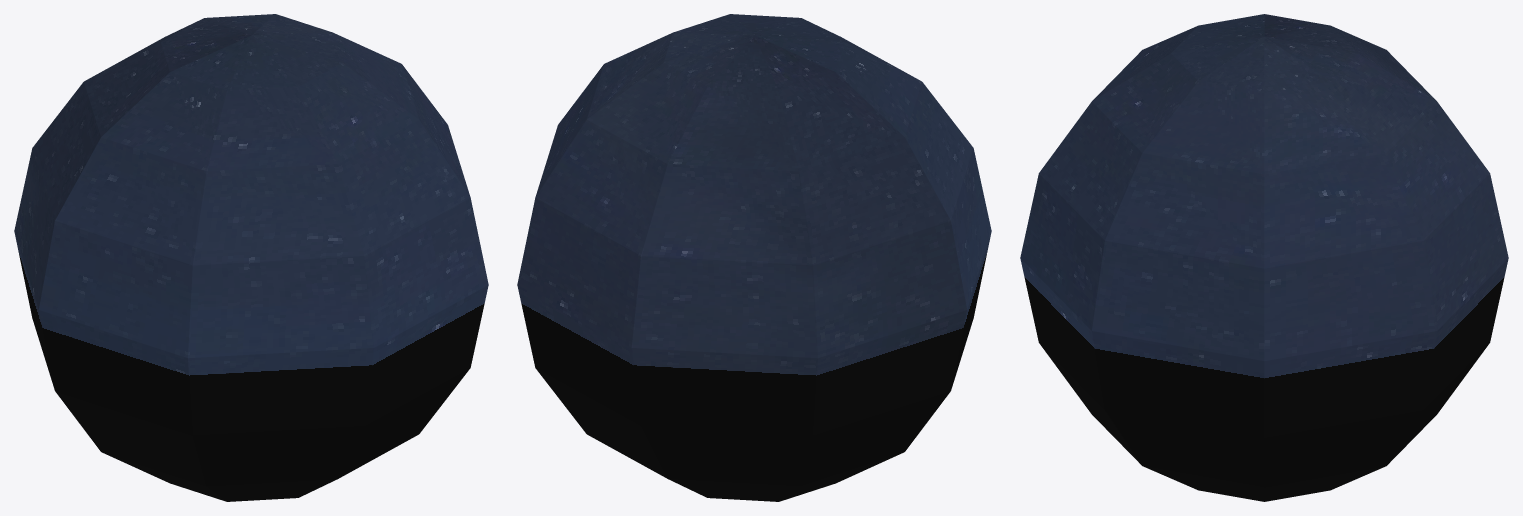
The model's file is test_location.glb.
3 renders of one model, left to right at view 1: azimuth 30°, elevation 25°; view 2: azimuth 150°, elevation 25°; view 3: azimuth 270°, elevation 25°, orthographic.
Parts seen in each view (by area): view 1: Sphere_142; view 2: Sphere_142; view 3: Sphere_142.
Boxes of the visible parts, <box> form: Sphere_142: <box>14,14,488,501</box>; Sphere_142: <box>517,14,991,501</box>; Sphere_142: <box>1020,14,1508,501</box>.
Bounding box in the file's own units: 27.54 × 27.54 × 27.54.
5 materials, 5 textured.
